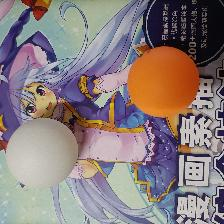WhiteBall: (4, 118, 78, 189)
YellowBall: (126, 46, 199, 117)
